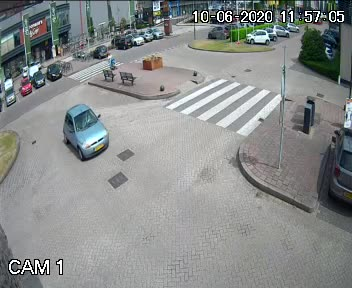car: (59, 104, 113, 161)
